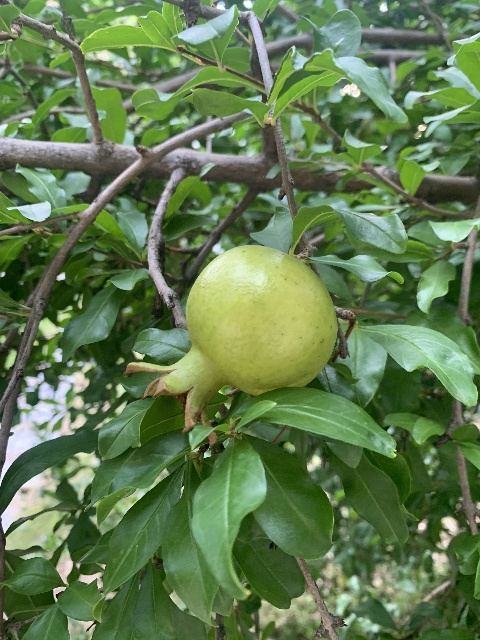mid-growth: (123, 244, 336, 437)
